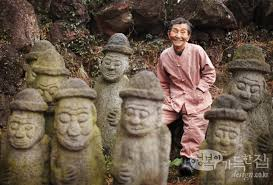Stone Statue: (211, 37, 273, 185), (105, 65, 177, 185), (86, 24, 144, 167), (43, 74, 112, 185), (188, 88, 258, 185), (0, 87, 56, 185)
